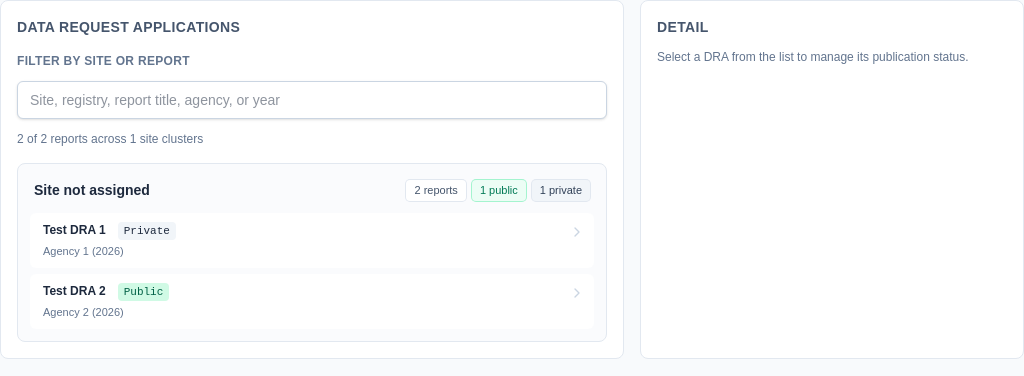
Test case: DraPublishControl › regression: a DRA whose only audit rows are OLD (would be truncated out of any global top-N list) still shows its real history, not a false "no history"
Click the button with test id "dra-row-11111111-1111-4111-8111-111111111111": point(74, 230) [30,212,594,268]
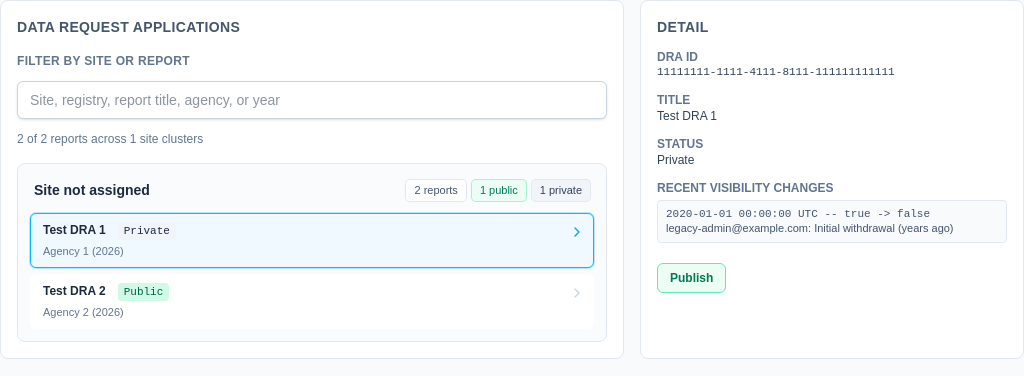
Check: the list with test id "dra-audit-history-list" is shown, box [657,200,1007,243]
Check: the text "legacy-admin@example.com: Initial withdrawal (years ago)" is shown, box [666,221,998,236]
